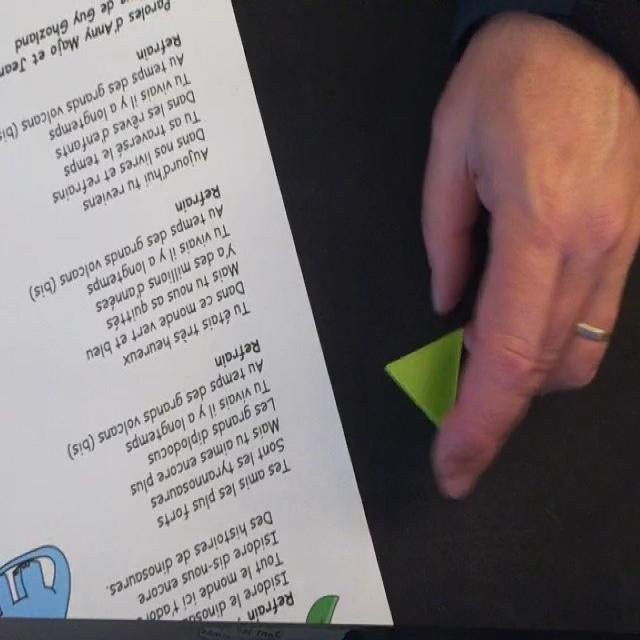triangle: (383, 324, 468, 438)
